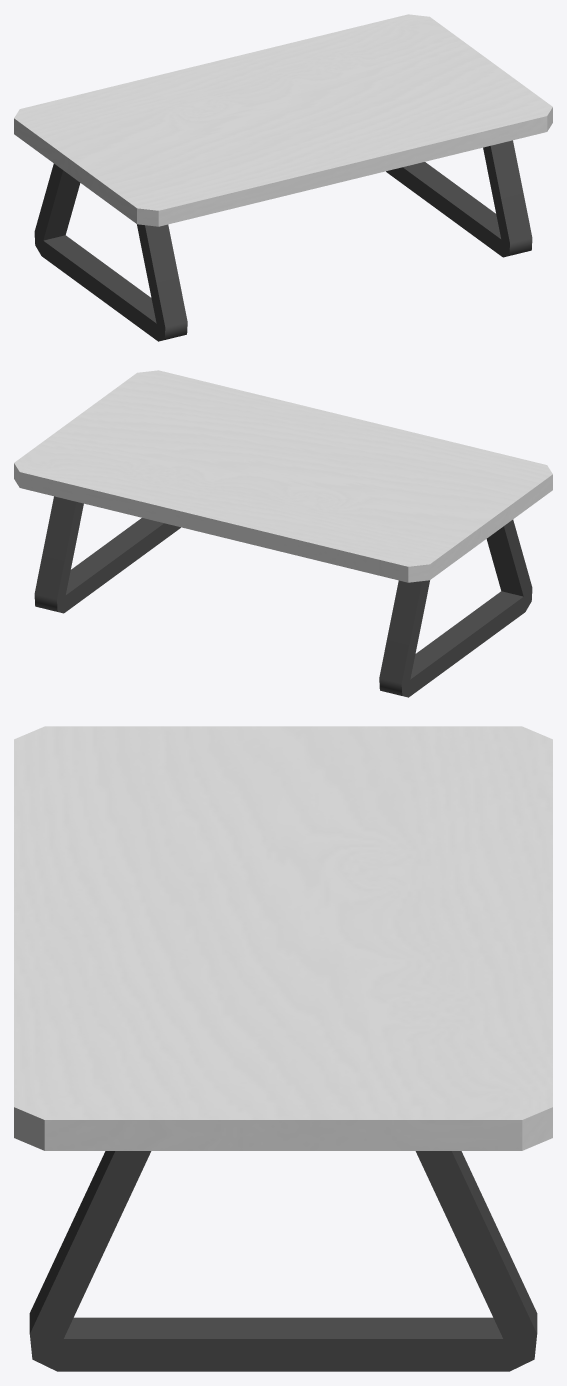
File: Pfb_TeaTable.fbx
3 views of the same model, one above another, from view 1: azimuth 30°, elevation 25°; view 2: azimuth 150°, elevation 25°; view 3: azimuth 270°, elevation 25° (orthographic). The views are drawn at different scales.
Visible parts, largest first — view 1: MAT_Teatable 2; view 2: MAT_Teatable 2; view 3: MAT_Teatable 2.
Part boxes in pixels (x1,y1,x2,y2): MAT_Teatable 2: (14,14,552,341); MAT_Teatable 2: (14,370,552,697); MAT_Teatable 2: (14,726,552,1371).
Bounding box in the file's own units: 1.57 × 0.5103 × 0.9078.
Materials: 1 (1 with a texture image).
